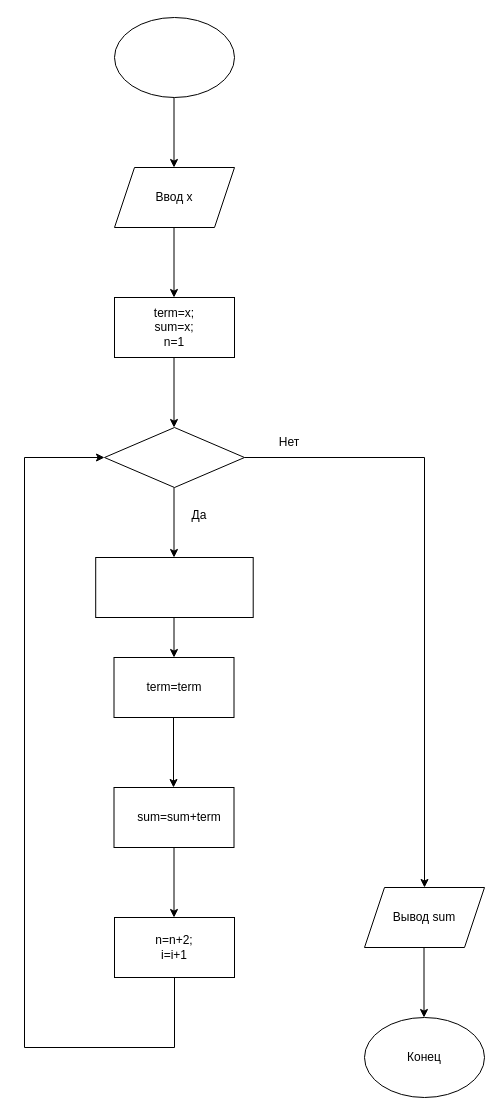
Image size: 502x1115. Some labels were removed from this diagram. Each missing label, with the centre of its shape:
i<6?: pixel 174 457
term=term*x^2/((n+1)*(n+2)): pixel 174 587
Начало: pixel 174 57
